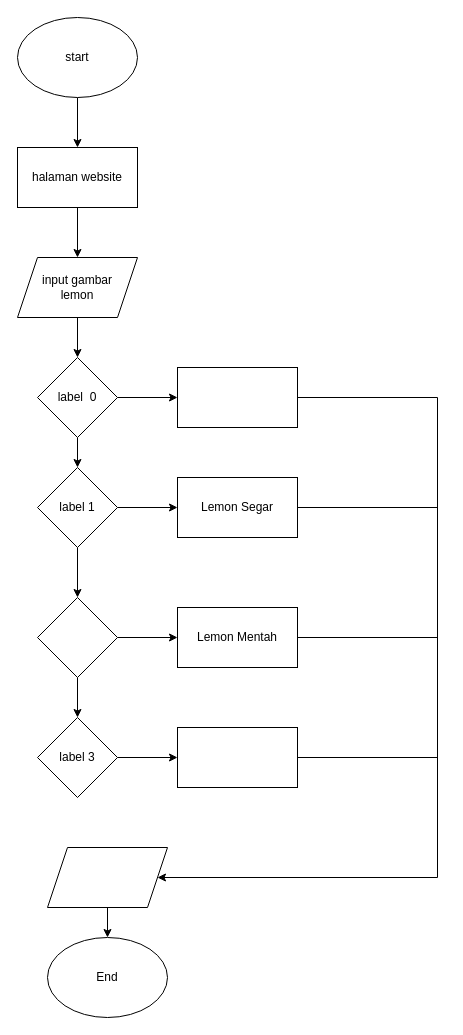
The diagram is 463 pixels wide and 1035 high, and some of its shapes have lost their labels. Each missing label, with the centre of its shape:
"Data tidak diketahui" belongs at pixel 237 757.
"Hasil prediksi ditampilkan" belongs at pixel 107 877.
"label 2" belongs at pixel 77 637.
"Lemon busuk" belongs at pixel 237 397.
